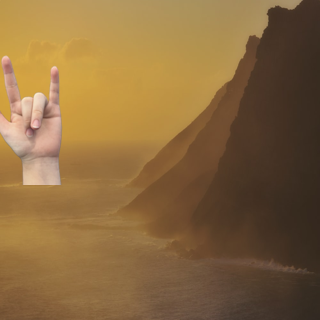ILY: (1, 49, 68, 163)
